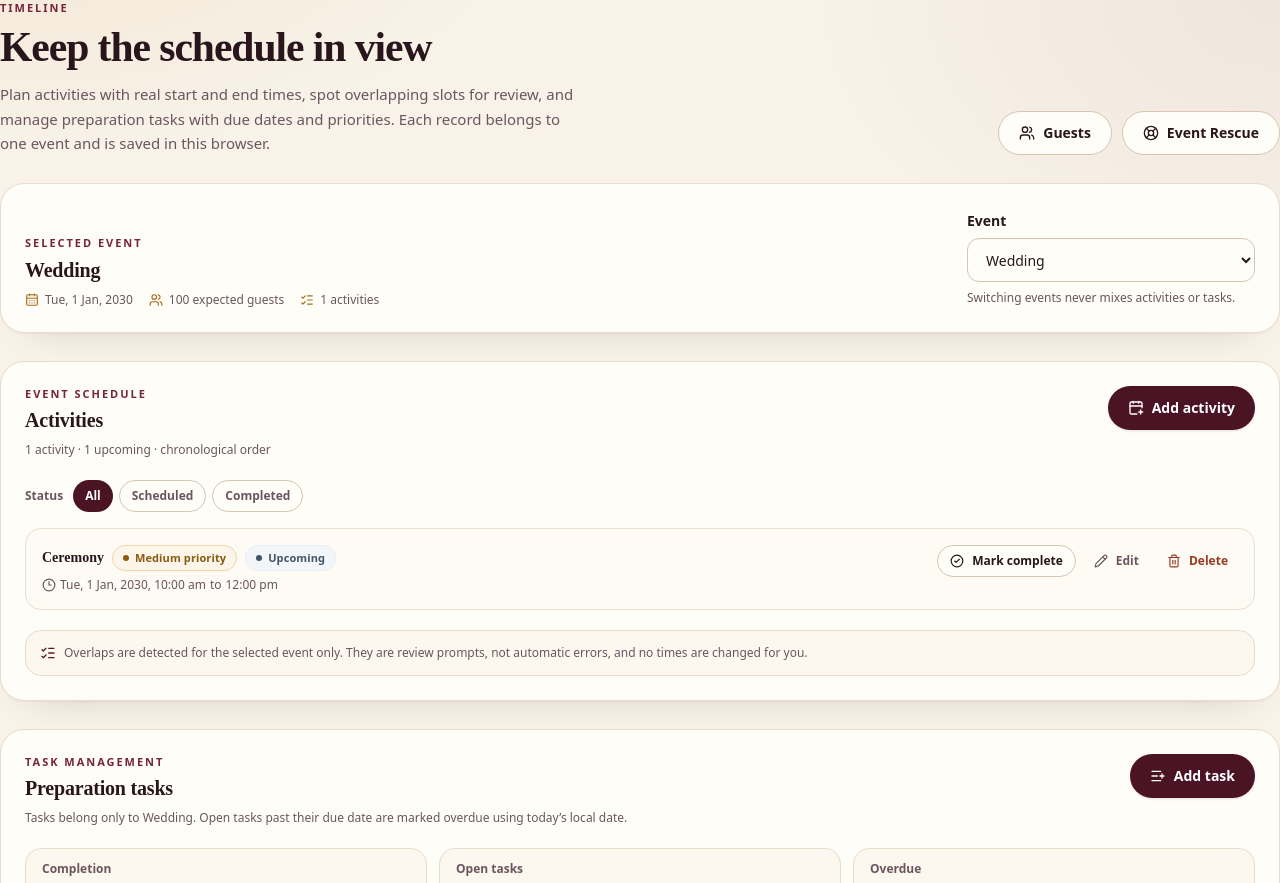
Test: TimelinePage activities › adds an activity, surfaces an overlap for review, and keeps both saved times unchanged
Click the button "Add activity" at {"x": 1181, "y": 408}, box 1108,386 -> 1255,430
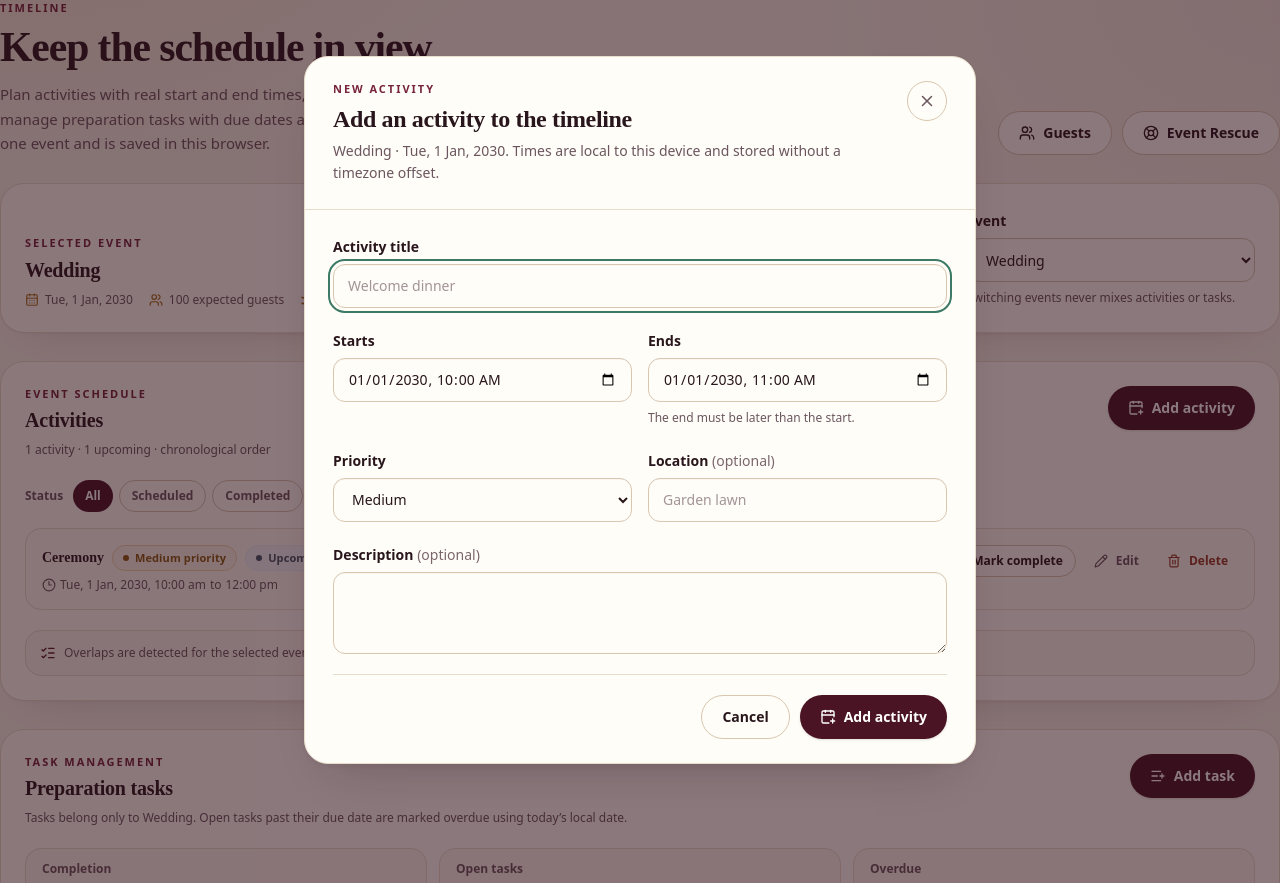
Type "Photos" into the field labelled "Activity title" at {"x": 640, "y": 286}, box 333,264 -> 947,308
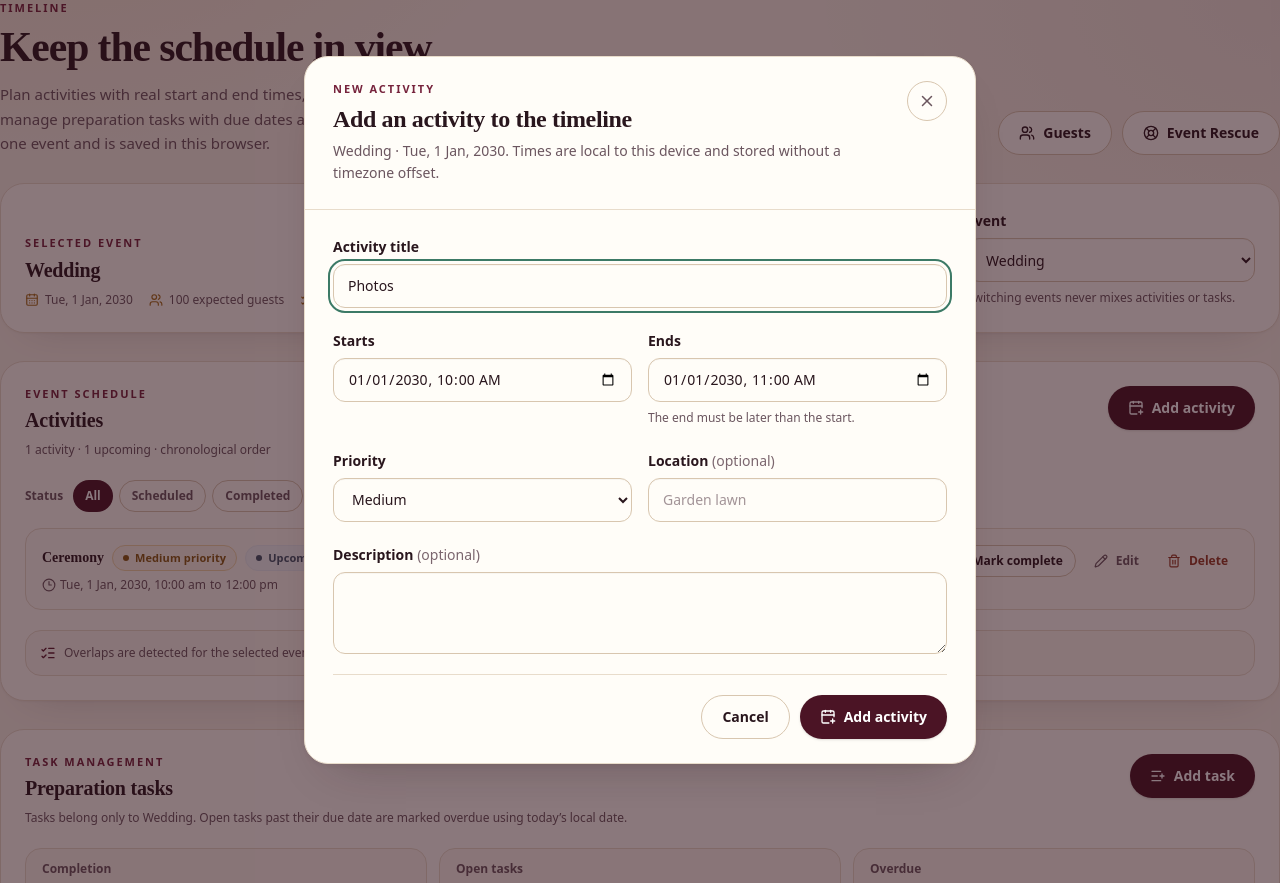
Replace the text in the field labelled "Starts" with "2030-01-01T11:00" at {"x": 482, "y": 380}, box 333,358 -> 632,402
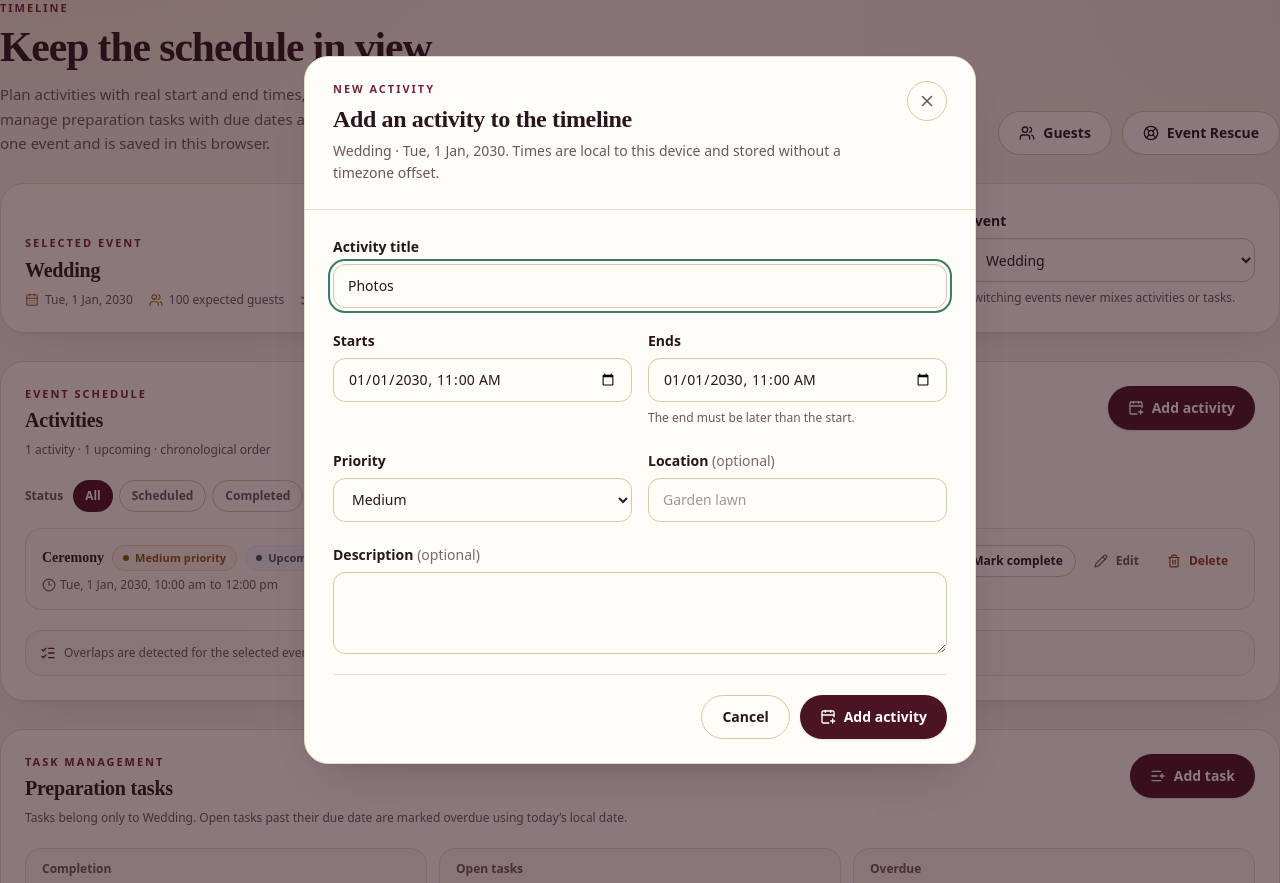
Replace the text in the field labelled "Ends" with "2030-01-01T13:00" at {"x": 798, "y": 380}, box 648,358 -> 947,402
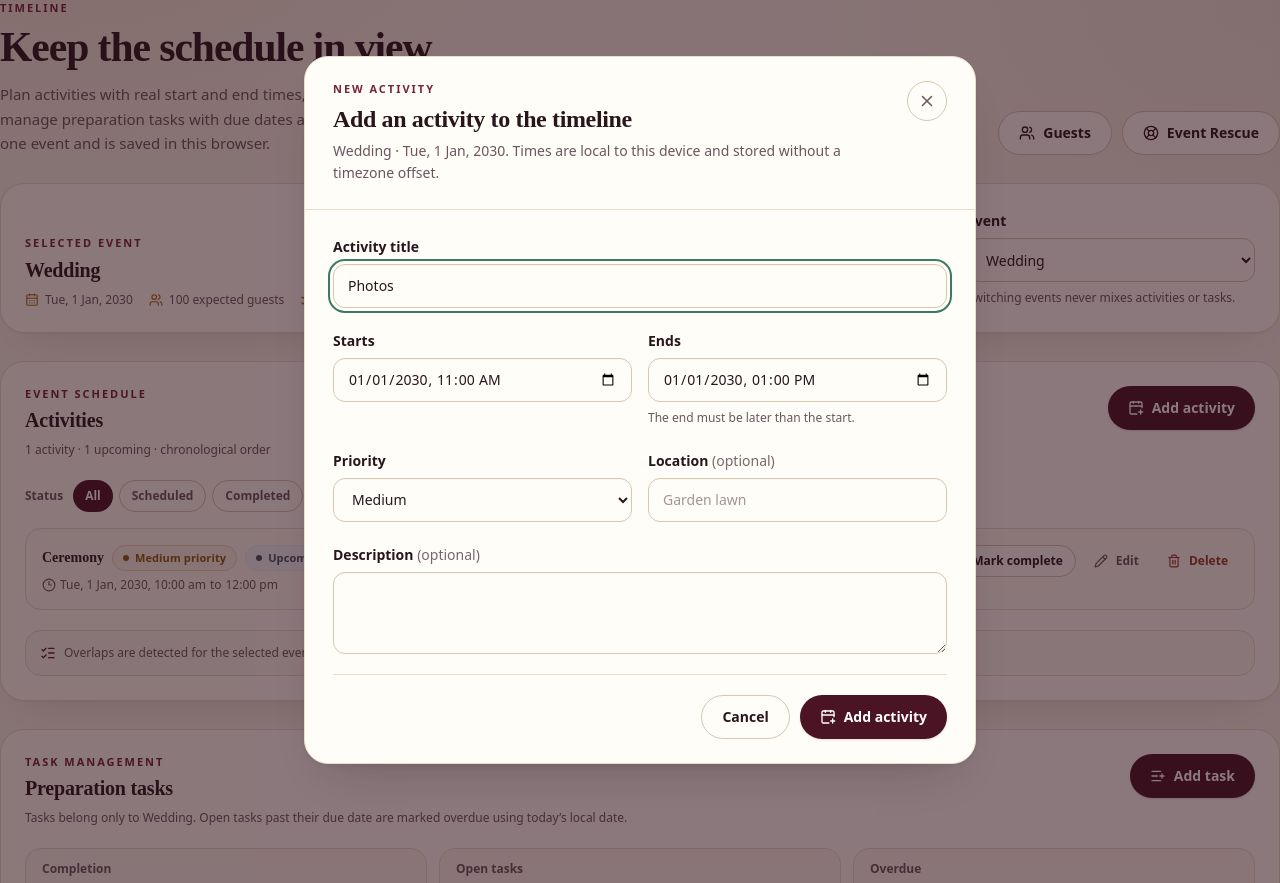
Click the button "Add activity" at {"x": 873, "y": 716}, box 800,694 -> 947,738
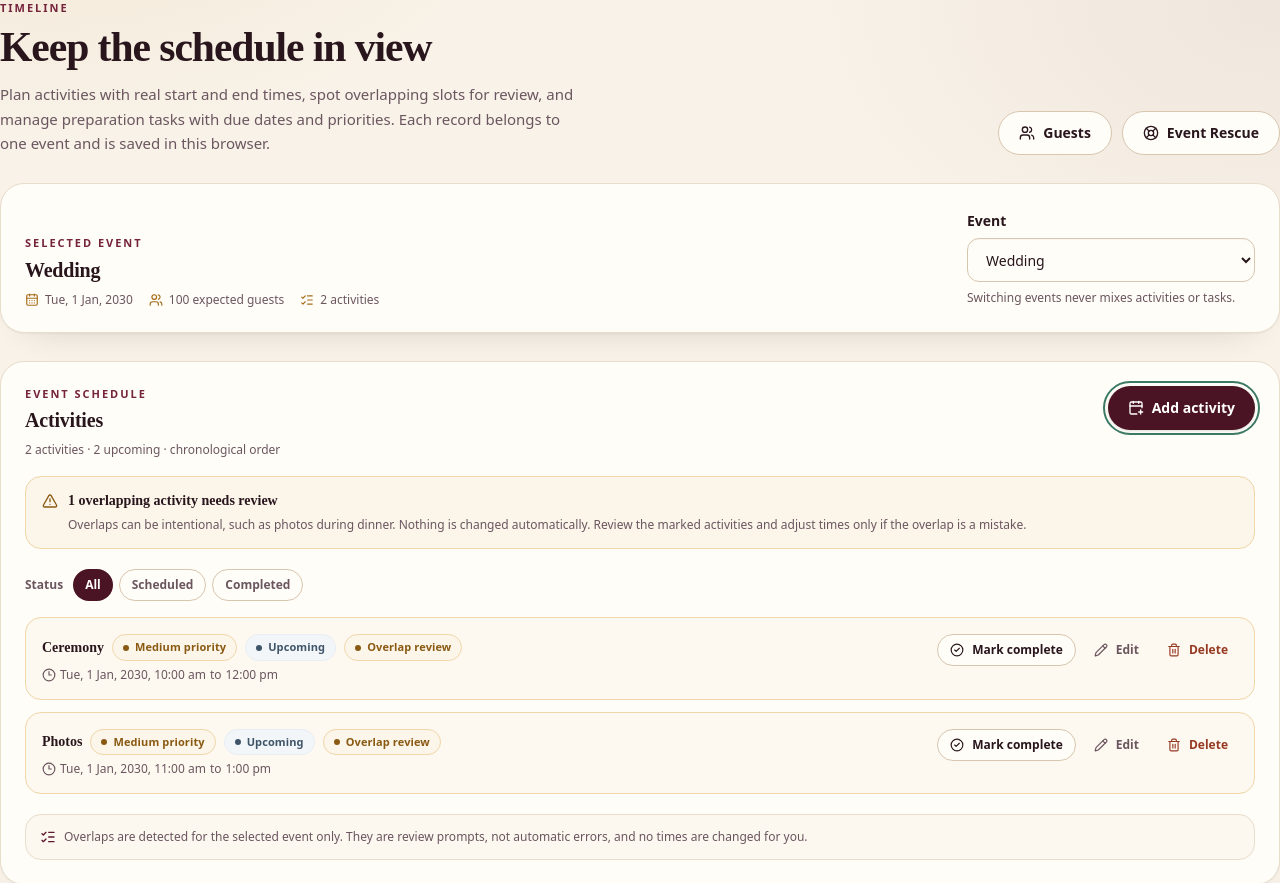
expect the dialog is gone: met
expect the heading "1 overlapping activity needs review" is shown: met, box 68,493 -> 278,508
expect the text "Overlaps can be intentional" is shown: met, box 68,516 -> 1026,533
